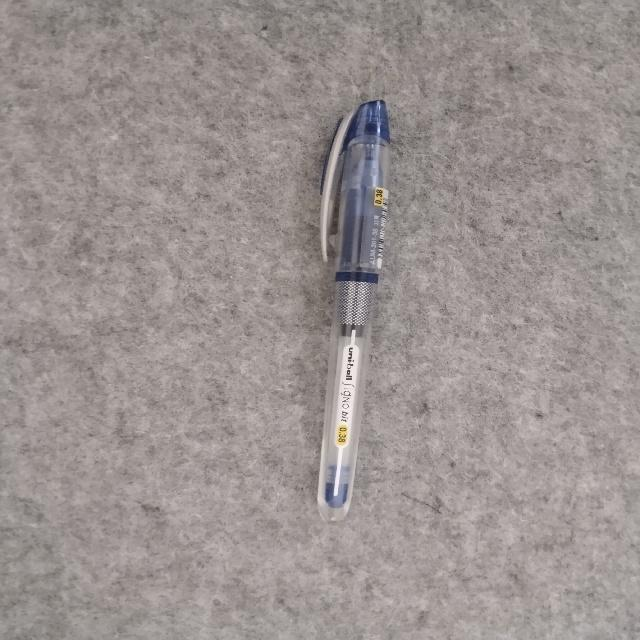pen: (318, 100, 389, 520)
